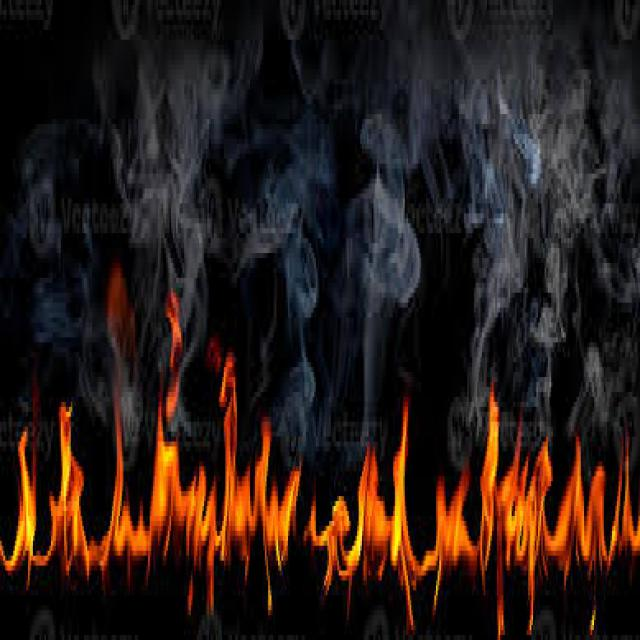fire: (478, 391, 640, 581), (353, 395, 419, 598), (192, 350, 245, 590), (147, 264, 187, 581), (96, 400, 143, 600), (256, 412, 302, 604), (46, 403, 92, 587), (428, 462, 477, 586), (7, 415, 41, 584), (312, 479, 350, 594)
